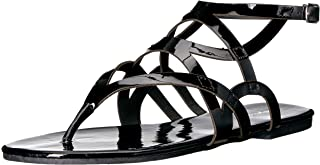shoes: (1, 1, 320, 164)
